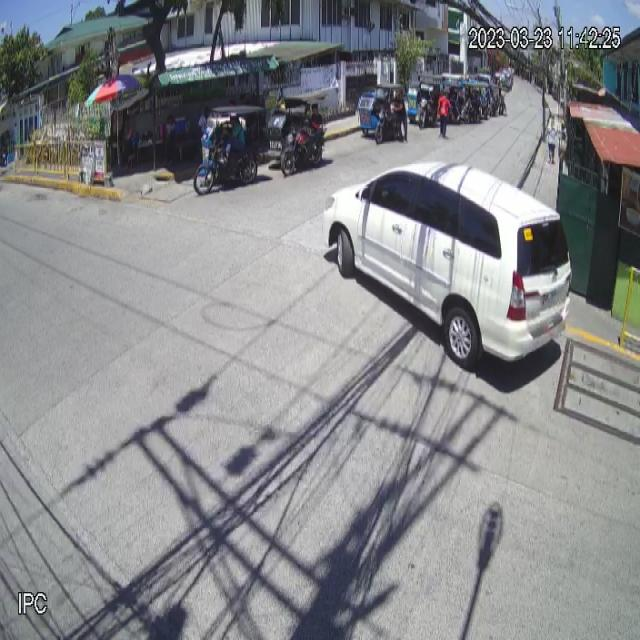Car: (323, 161, 575, 369)
